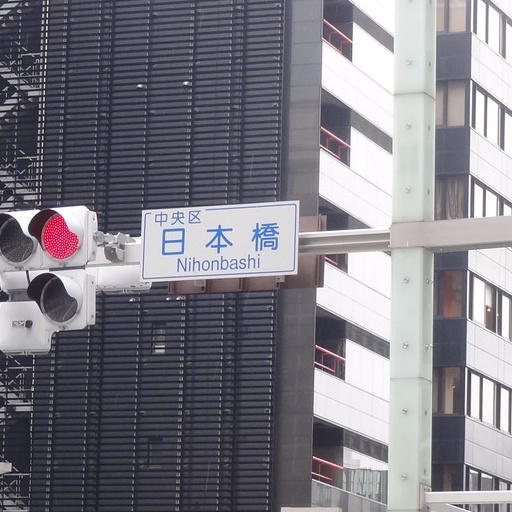Traffic_Signal_Red: (2, 197, 104, 267)
